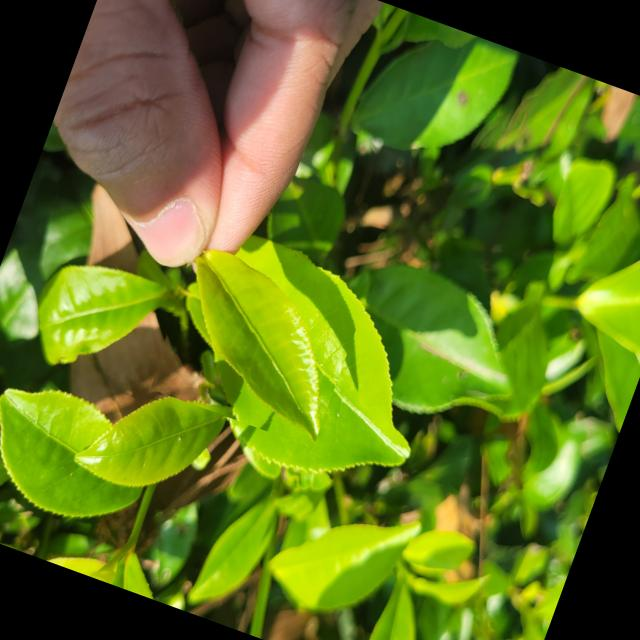Catagory A 1-2 days: (138, 224, 370, 448)
